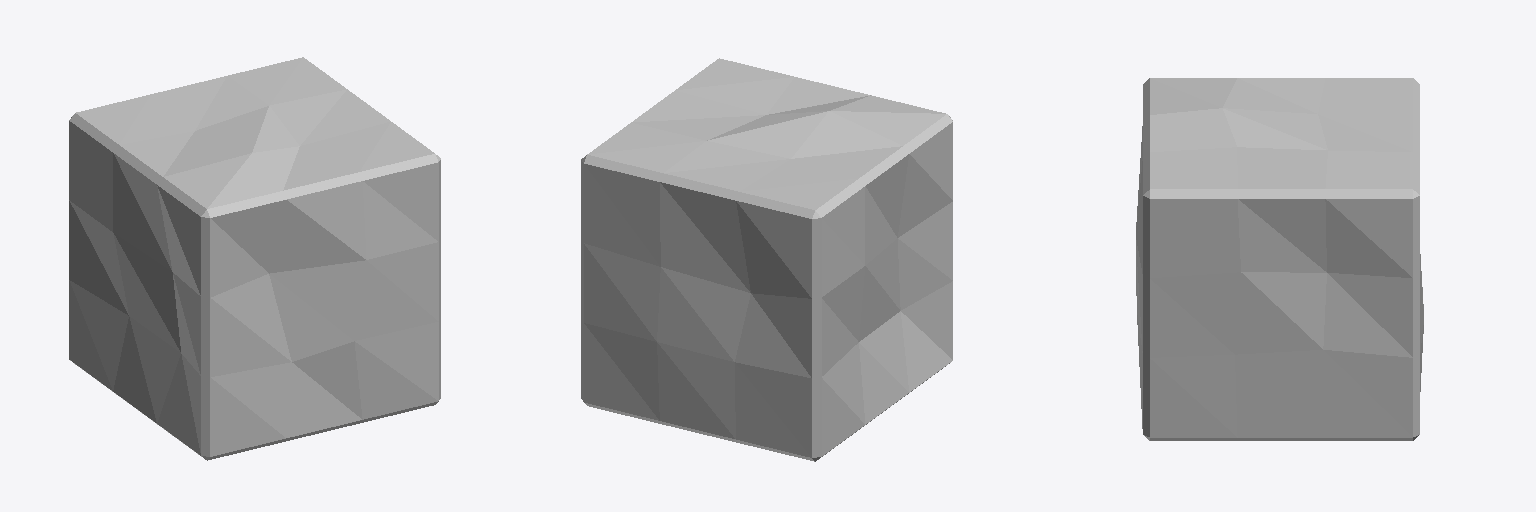
Rendered from Brick_1x1_Normal.obj.
The picture shows the model from 3 angles: view 1: azimuth 30°, elevation 25°; view 2: azimuth 150°, elevation 25°; view 3: azimuth 270°, elevation 25°; orthographic projection.
Visible parts, largest first — view 1: Cube_Cube.001; view 2: Cube_Cube.001; view 3: Cube_Cube.001.
Boxes of the visible parts, <box> form: Cube_Cube.001: <box>69,57,440,460</box>; Cube_Cube.001: <box>581,58,952,461</box>; Cube_Cube.001: <box>1136,78,1423,440</box>.
Size of the model in its own units: 0.6 by 0.6297 by 0.6242.